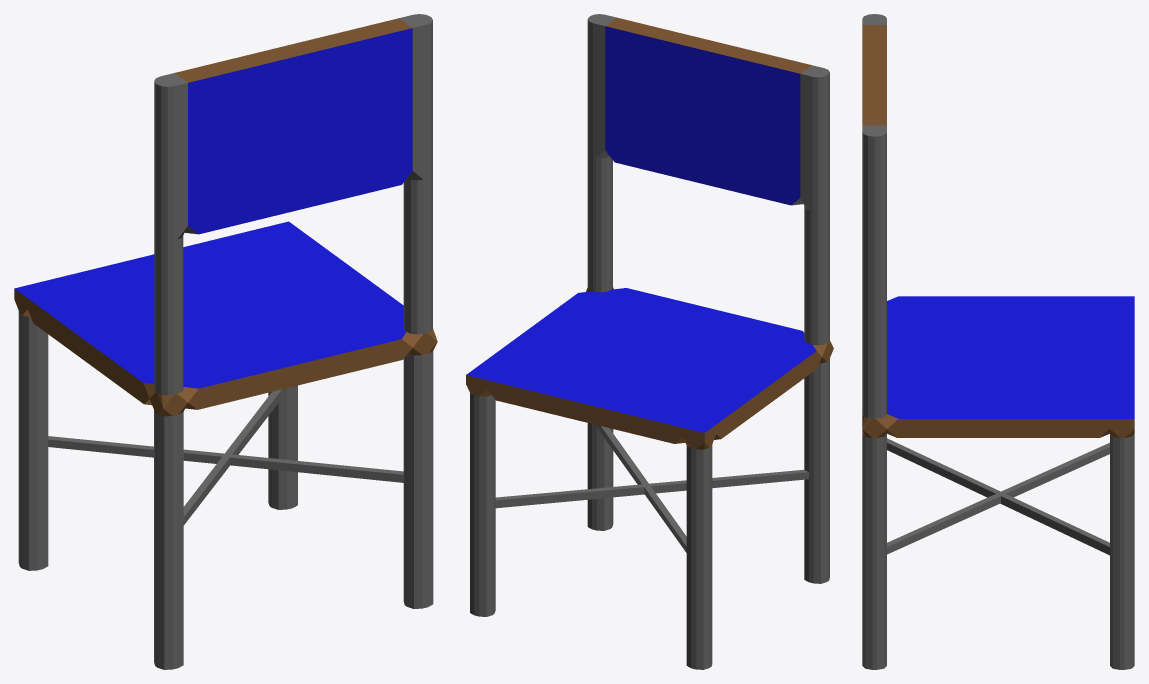
Rendered from Silla.fbx.
3 renders of one model, left to right at view 1: azimuth 30°, elevation 25°; view 2: azimuth 150°, elevation 25°; view 3: azimuth 270°, elevation 25°, orthographic. The views are drawn at different scales.
Visible parts, largest first — view 1: Cube; view 2: Cube; view 3: Cube.
Part boxes in pixels (box(x1,y1,x2,y2)): Cube: box(14, 14, 437, 669); Cube: box(466, 14, 833, 669); Cube: box(862, 14, 1134, 669).
Size of the model in its own units: 200 by 406 by 188.
